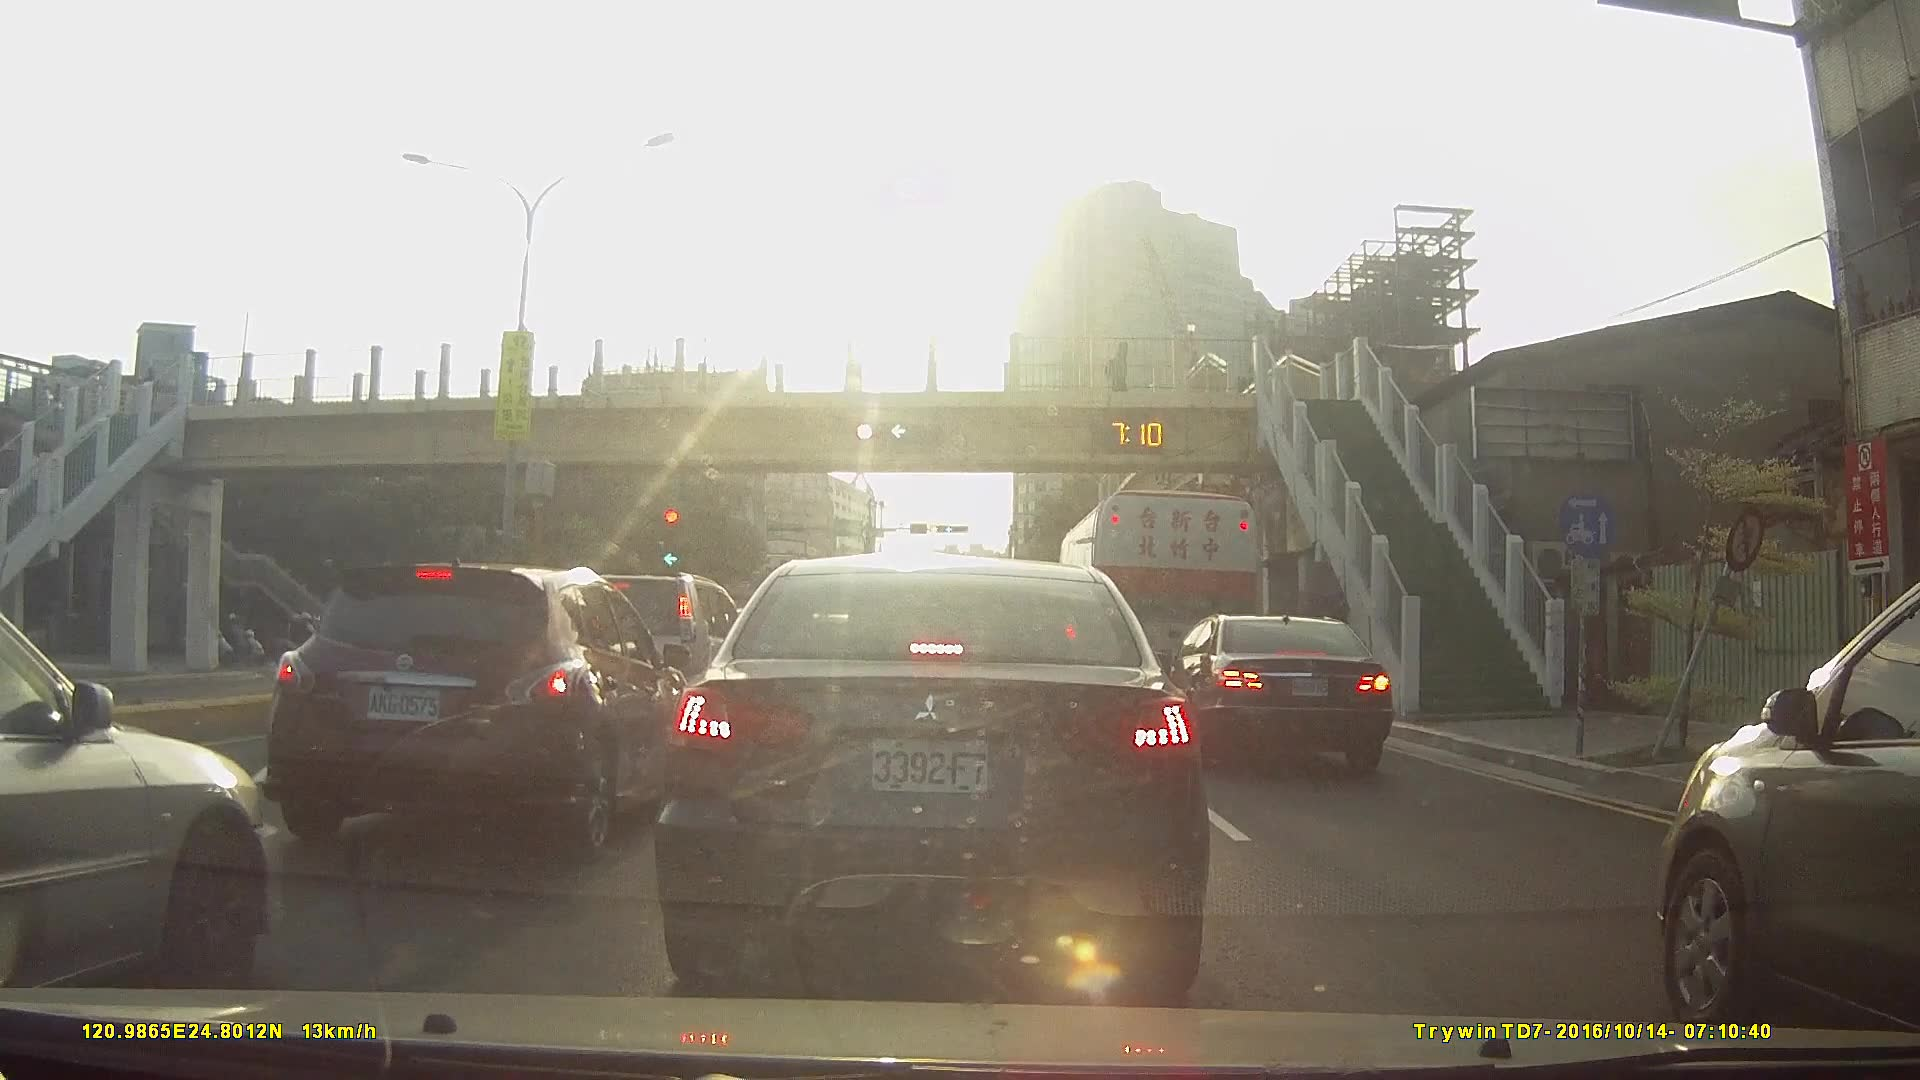pedestrian: (1105, 339, 1132, 396)
rider: (217, 613, 272, 668)
vehicle: (651, 553, 1209, 995), (262, 559, 692, 861), (1647, 564, 1920, 1031), (0, 604, 280, 1004), (1057, 487, 1261, 726), (1156, 612, 1396, 778)
